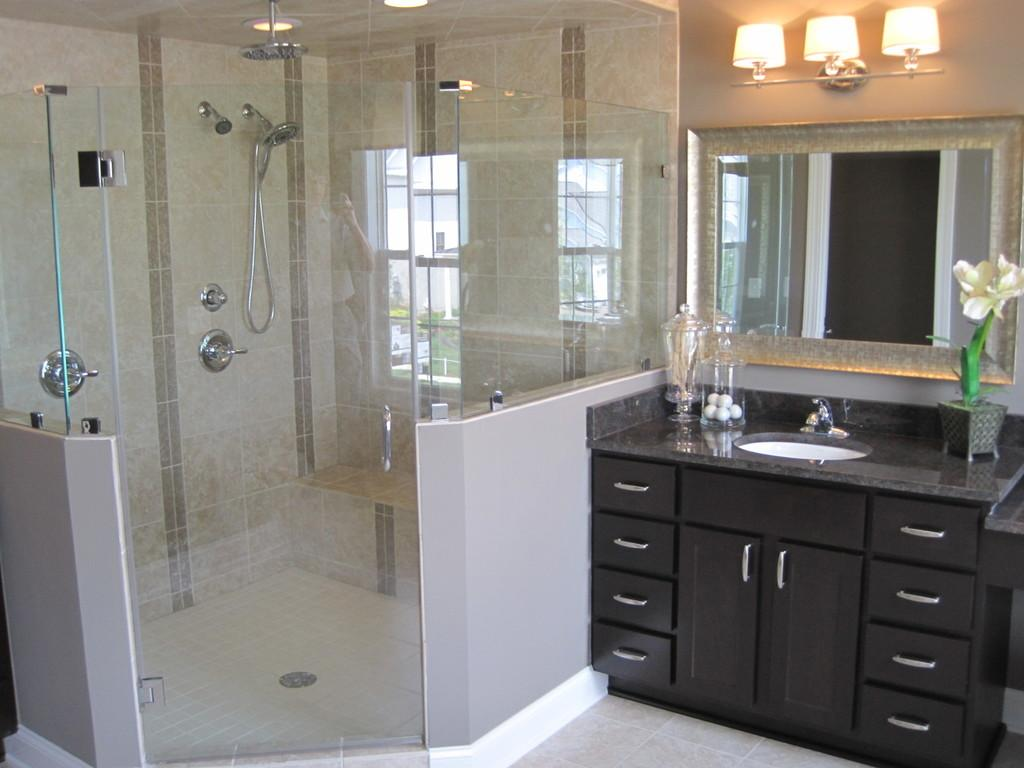cabinet_door: (763, 542, 852, 712), (681, 528, 763, 690), (871, 563, 971, 620), (872, 632, 966, 690), (876, 502, 974, 556), (875, 694, 971, 748), (594, 624, 672, 679), (598, 520, 668, 574), (596, 572, 670, 620), (603, 463, 668, 515)
handle: (377, 406, 401, 476), (883, 650, 939, 672), (770, 546, 796, 593), (893, 587, 948, 608), (890, 707, 928, 735), (734, 536, 754, 586), (902, 522, 944, 542), (614, 477, 652, 498), (610, 644, 648, 664), (611, 592, 647, 613), (610, 536, 652, 554)
